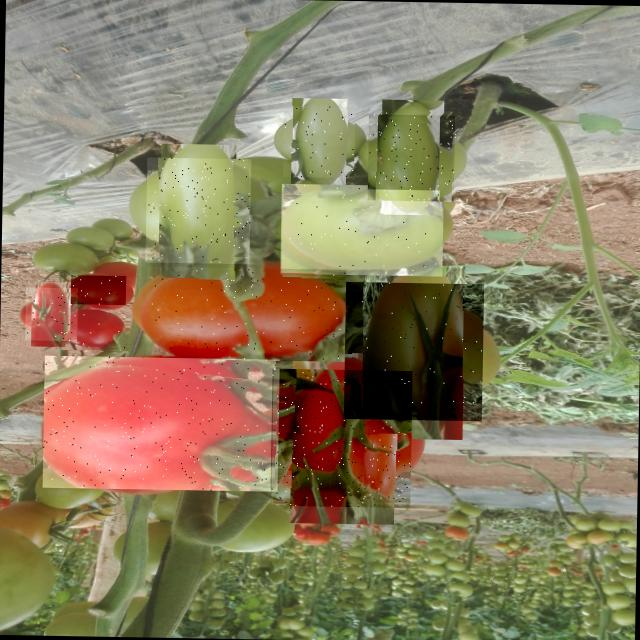Ripe Tomato: (42, 355, 278, 491), (273, 368, 412, 508), (145, 266, 346, 361), (24, 287, 78, 341), (63, 308, 130, 351), (70, 274, 126, 304)
Unripe Tomato: (344, 282, 484, 421), (280, 183, 443, 276), (145, 157, 251, 264), (368, 111, 458, 201), (282, 106, 354, 178)
